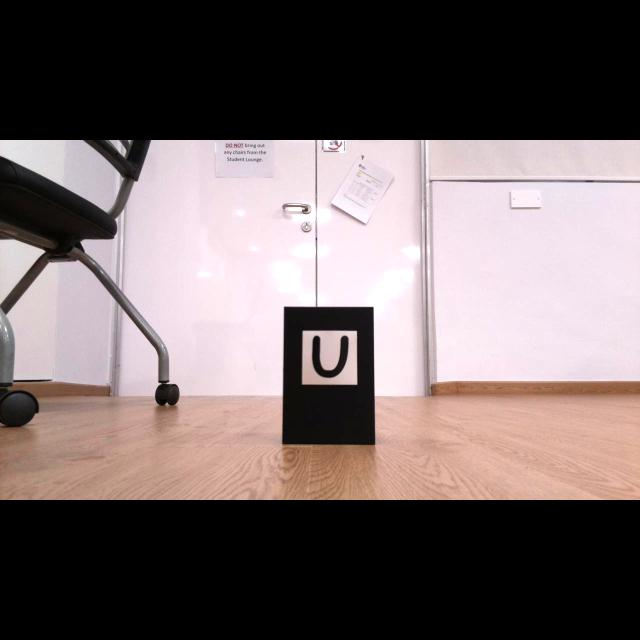U: (312, 335, 349, 377)
